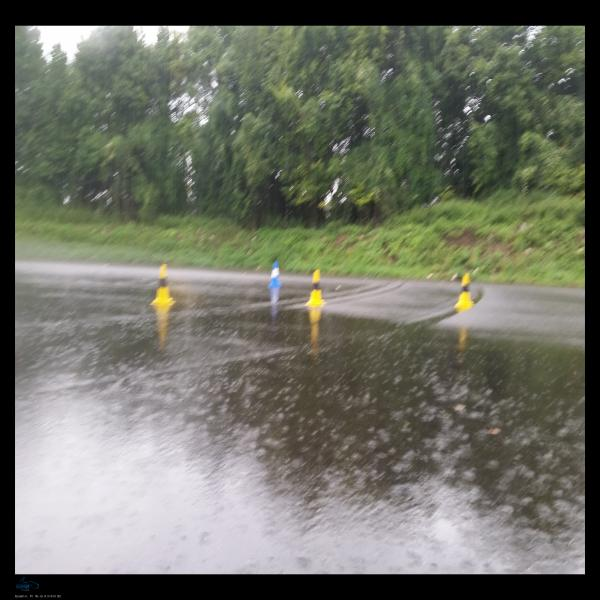blue_cone: (268, 260, 281, 286)
yellow_cone: (149, 264, 176, 305), (305, 270, 326, 308), (454, 273, 475, 309)
